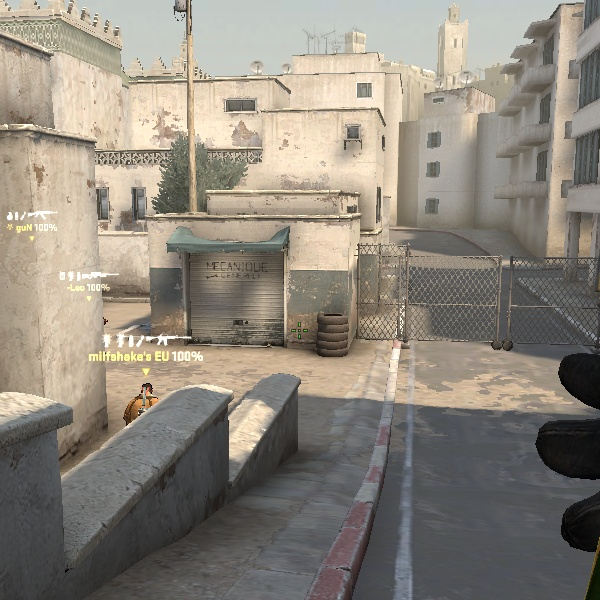t_body: (115, 378, 172, 428)
